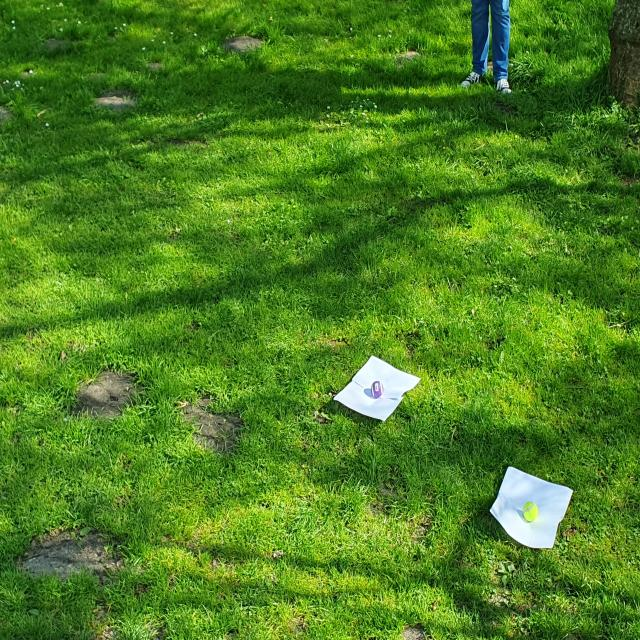green: (522, 500, 539, 525)
purple: (369, 380, 385, 400)
